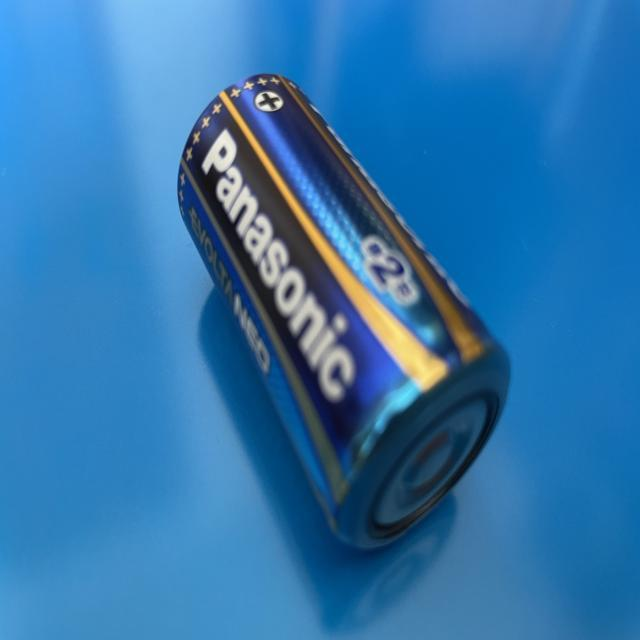hazardous waste: (175, 71, 508, 556)
